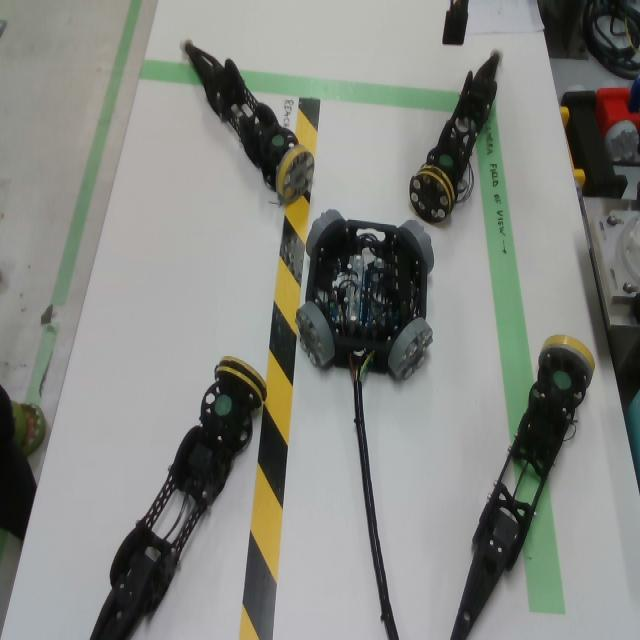body: (305, 220, 427, 375)
body_connector: (388, 317, 433, 381), (296, 301, 336, 368), (399, 220, 435, 275), (306, 209, 346, 257)
leg: (89, 355, 267, 640), (450, 335, 595, 640), (179, 33, 315, 199), (409, 48, 504, 224)
leg_connector: (538, 335, 595, 388), (214, 356, 268, 411), (409, 164, 455, 224), (276, 145, 315, 205)
leg_marker: (215, 395, 232, 417), (553, 371, 571, 391), (438, 155, 454, 167), (271, 135, 284, 148)
